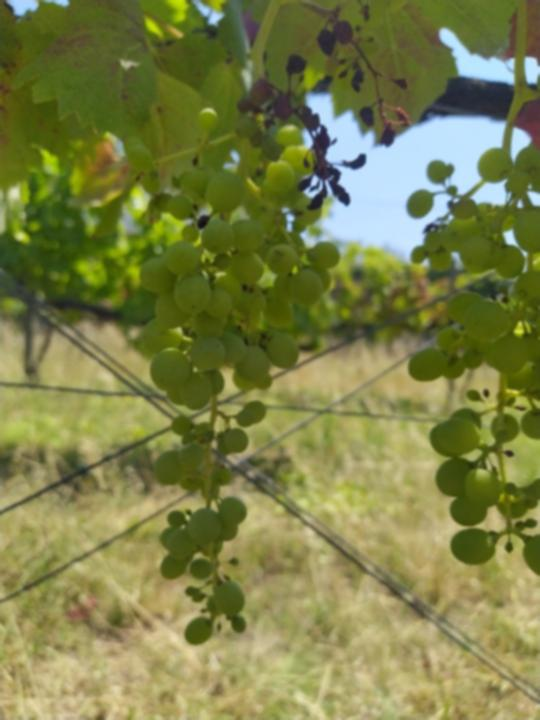grape: (116, 105, 346, 655), (232, 9, 418, 212)
